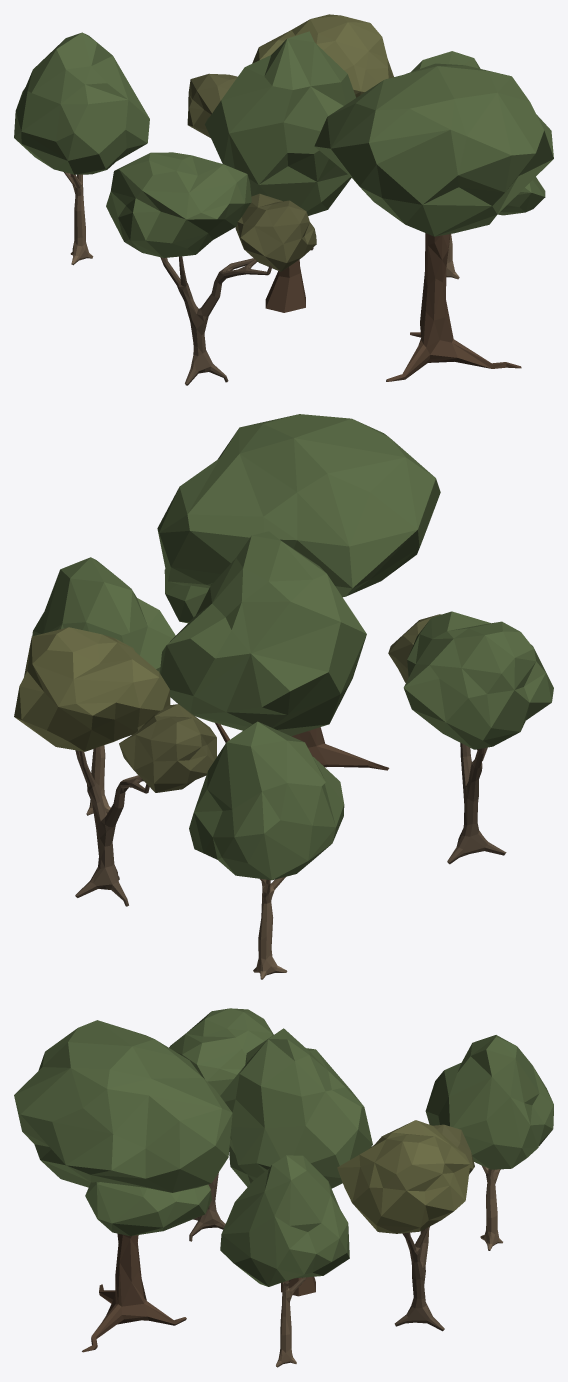
The model's file is SM_Envr_Nature_Tree_Group_01.fbx.
3 views of the same model, one above another, from view 1: azimuth 30°, elevation 25°; view 2: azimuth 150°, elevation 25°; view 3: azimuth 270°, elevation 25° (orthographic). The views are drawn at different scales.
Visible parts, largest first — view 1: SM_Envr_Nature_Tree_Group_01; view 2: SM_Envr_Nature_Tree_Group_01; view 3: SM_Envr_Nature_Tree_Group_01.
Boxes of the visible parts, x1=… form: SM_Envr_Nature_Tree_Group_01: x1=14, y1=14, x2=553, y2=385; SM_Envr_Nature_Tree_Group_01: x1=14, y1=414, x2=553, y2=979; SM_Envr_Nature_Tree_Group_01: x1=14, y1=1008, x2=553, y2=1367.
Size of the model in its own units: 938 by 644 by 1122.
